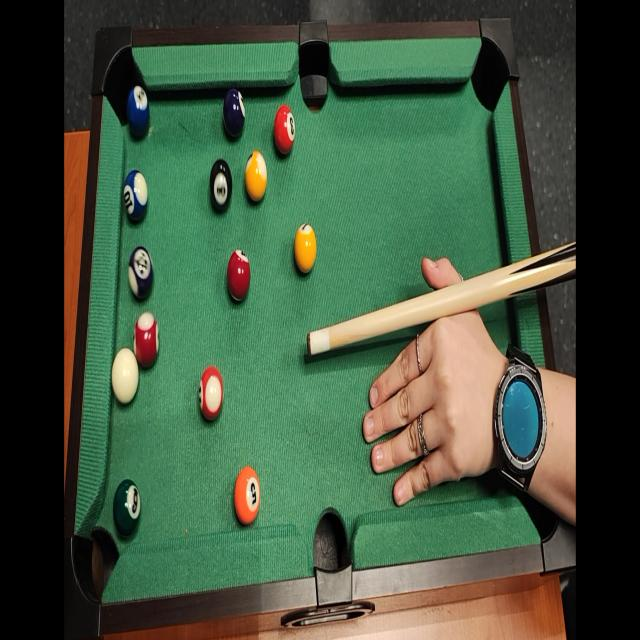cue ball: (109, 348, 142, 407)
other: (125, 242, 158, 302), (132, 313, 164, 372), (197, 361, 226, 425), (233, 462, 260, 528), (271, 103, 299, 165), (225, 247, 254, 306), (220, 82, 248, 142), (121, 171, 150, 228), (113, 479, 140, 538), (242, 151, 270, 206), (128, 83, 152, 142), (294, 221, 318, 278), (208, 159, 232, 213)
